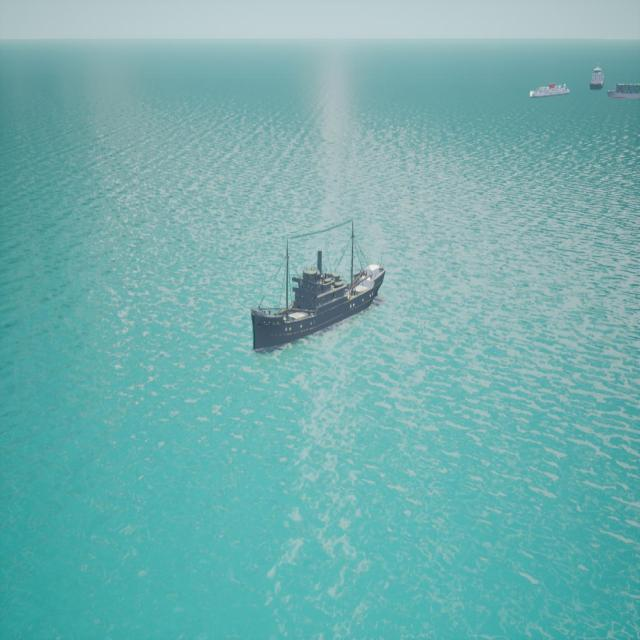fishing ship: (250, 225, 388, 352), (530, 85, 573, 101), (609, 81, 640, 102), (590, 65, 605, 90)
